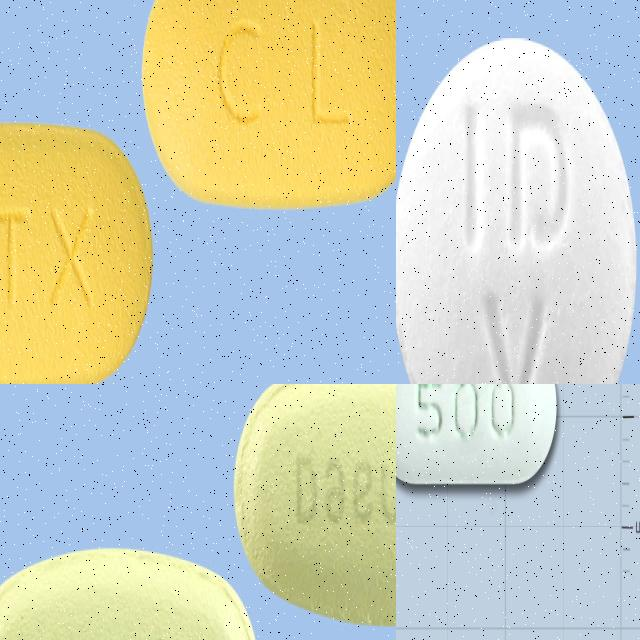Amocla: (396, 384, 562, 492)
Besivo: (396, 33, 639, 384)
Clarosin: (139, 0, 396, 212), (0, 121, 155, 384)
Clasin: (231, 384, 396, 633), (0, 542, 260, 640)
